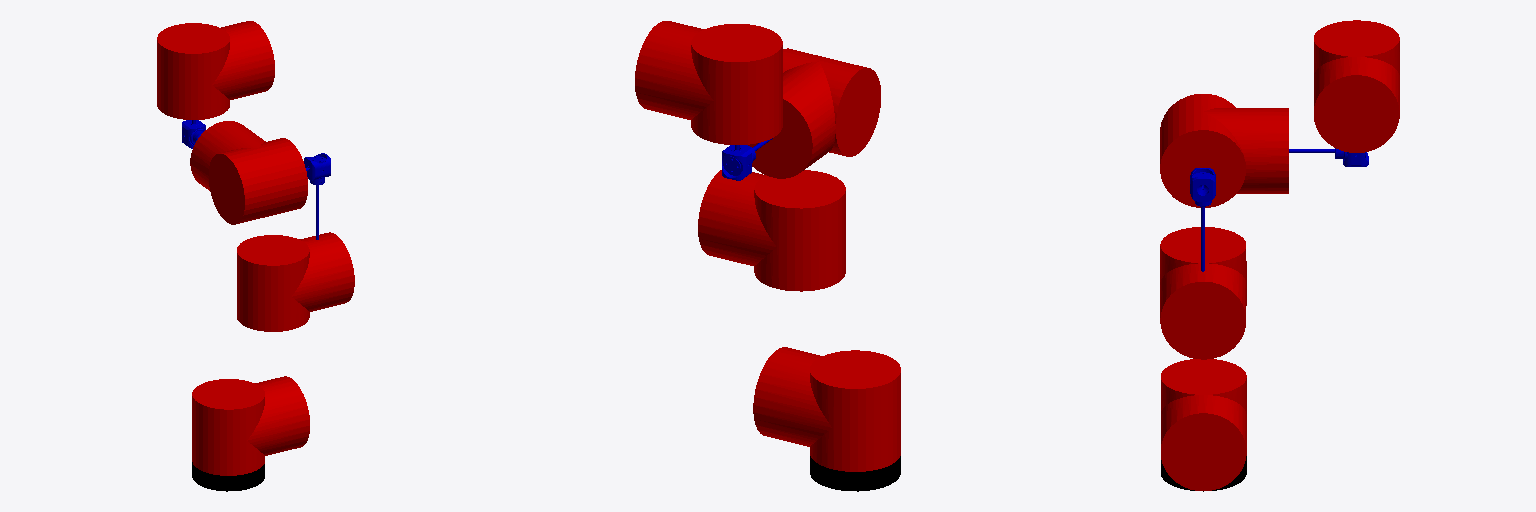
robot.urdf — node61:
<?xml version="1.0"?>
<robot  name="node61" >
 <material  name="blue" >
  <color  rgba="0 0 0.8 1.0" />
 </material>
 <material  name="red" >
  <color  rgba="0.8 0 0 1.0" />
 </material>
 <material  name="black" >
  <color  rgba="0.0 0.0 0.0 1.0" />
 </material>
 <link  name="root_mod" >
  <visual >
   <origin  rpy="0 0 0"  xyz="0 0 0" />
   <material  name="black" />
   <geometry >
    <cylinder  length="0.02"  radius="0.05" />
   </geometry>
  </visual>
 </link>
 <link  name="jointMod_1" >
  <visual >
   <origin  rpy="1.5707963267948963 0.0 0.0"  xyz="0.0 7.771561172376096e-19 0.0035" />
   <material  name="red" />
   <geometry >
    <mesh  filename="./meshes/j_module.obj"  scale="0.001 0.001 0.001" />
   </geometry>
  </visual>
 </link>
 <joint  type="revolute"  name="joint_1_revolute" >
  <parent  link="root_mod" />
  <child  link="jointMod_1" />
  <origin  rpy="0 0 0"  xyz="0.0 0.0 0.01" />
  <axis  xyz="0.0 0.0 1.0" />
 </joint>
 <transmission  name="act_joint_1_revolute" >
  <type  xmltext="SimpleTransmission" >
   SimpleTransmission
  </type>
  <actuator  name="act_joint_1_revolute" >
   <mechanicalreduction  xmltext="1" >
    1
   </mechanicalreduction>
  </actuator>
  <joint  name="joint_1_revolute" />
 </transmission>
 <link  name="linkMod_2" >
  <visual >
   <origin  rpy="1.5707963240855651 -1.2497703982816688e-08 -3.141592641092089"  xyz="0.03999999999999998 4.999081662324221e-10 -4.999081648780052e-10" />
   <material  name="blue" />
   <geometry >
    <mesh  filename="./meshes/l2_module.obj"  scale="0.001 0.001 0.001" />
   </geometry>
  </visual>
 </link>
 <joint  type="revolute"  name="joint_2_revolute" >
  <parent  link="jointMod_1" />
  <child  link="linkMod_2" />
  <origin  rpy="0 0 0"  xyz="0.03 -0.0002999999999999882 0.053000000000000005" />
  <axis  xyz="1.0 0.0 0.0" />
 </joint>
 <transmission  name="act_joint_2_revolute" >
  <type  xmltext="SimpleTransmission" >
   SimpleTransmission
  </type>
  <actuator  name="act_joint_2_revolute" >
   <mechanicalreduction  xmltext="1" >
    1
   </mechanicalreduction>
  </actuator>
  <joint  name="joint_2_revolute" />
 </transmission>
 <link  name="jointMod_3" >
  <visual >
   <origin  rpy="1.5707963267948963 0.0 0.0"  xyz="0.0 7.771561172376096e-19 0.0035" />
   <material  name="red" />
   <geometry >
    <mesh  filename="./meshes/j_module.obj"  scale="0.001 0.001 0.001" />
   </geometry>
  </visual>
 </link>
 <joint  type="fixed"  name="joint_3_fixed" >
  <parent  link="linkMod_2" />
  <child  link="jointMod_3" />
  <origin  rpy="0 0 0"  xyz="0.0400000018496602 9.892714319227296e-11 0.14799999950009177" />
  <axis  xyz="0.0 -0.0 1.0" />
 </joint>
 <link  name="linkMod_4" >
  <visual >
   <origin  rpy="1.5707963240855651 -1.2497703982816688e-08 -3.141592641092089"  xyz="0.03999999999999998 4.999081662324221e-10 -4.999081648780052e-10" />
   <material  name="blue" />
   <geometry >
    <mesh  filename="./meshes/l1_module.obj"  scale="0.001 0.001 0.001" />
   </geometry>
  </visual>
 </link>
 <joint  type="revolute"  name="joint_4_revolute" >
  <parent  link="jointMod_3" />
  <child  link="linkMod_4" />
  <origin  rpy="0 0 0"  xyz="0.03 -0.0002999999999999882 0.053000000000000005" />
  <axis  xyz="1.0 0.0 0.0" />
 </joint>
 <transmission  name="act_joint_4_revolute" >
  <type  xmltext="SimpleTransmission" >
   SimpleTransmission
  </type>
  <actuator  name="act_joint_4_revolute" >
   <mechanicalreduction  xmltext="1" >
    1
   </mechanicalreduction>
  </actuator>
  <joint  name="joint_4_revolute" />
 </transmission>
 <link  name="jointMod_5" >
  <visual >
   <origin  rpy="0.0 0.0 1.5707963267948963"  xyz="-0.0035 7.771561172376096e-19 0.0" />
   <material  name="red" />
   <geometry >
    <mesh  filename="./meshes/j_module.obj"  scale="0.001 0.001 0.001" />
   </geometry>
  </visual>
 </link>
 <joint  type="fixed"  name="joint_5_fixed" >
  <parent  link="linkMod_4" />
  <child  link="jointMod_5" />
  <origin  rpy="0 0 0"  xyz="1.9996326608429094e-09 -4.3349299788124236e-10 0.15999999999999995" />
  <axis  xyz="-1.0 -0.0 0.0" />
 </joint>
 <link  name="linkMod_6" >
  <visual >
   <origin  rpy="-3.141592641092089 -1.5707963009853283 0.0"  xyz="-1.8496602150599611e-09 0.14799999999999994 1.84966021004862e-09" />
   <material  name="blue" />
   <geometry >
    <mesh  filename="./meshes/l3_module.obj"  scale="0.001 0.001 0.001" />
   </geometry>
  </visual>
 </link>
 <joint  type="revolute"  name="joint_6_revolute" >
  <parent  link="jointMod_5" />
  <child  link="linkMod_6" />
  <origin  rpy="0 0 0"  xyz="-0.053 0.03000000000000001 0.0003" />
  <axis  xyz="0.0 1.0 0.0" />
 </joint>
 <transmission  name="act_joint_6_revolute" >
  <type  xmltext="SimpleTransmission" >
   SimpleTransmission
  </type>
  <actuator  name="act_joint_6_revolute" >
   <mechanicalreduction  xmltext="1" >
    1
   </mechanicalreduction>
  </actuator>
  <joint  name="joint_6_revolute" />
 </transmission>
 <link  name="jointMod_7" >
  <visual >
   <origin  rpy="1.5707963267948963 0.0 0.0"  xyz="0.0 7.771561172376096e-19 0.0035" />
   <material  name="red" />
   <geometry >
    <mesh  filename="./meshes/j_module.obj"  scale="0.001 0.001 0.001" />
   </geometry>
  </visual>
 </link>
 <joint  type="fixed"  name="joint_7_fixed" >
  <parent  link="linkMod_6" />
  <child  link="jointMod_7" />
  <origin  rpy="0 0 0"  xyz="-1.958033437884919e-09 0.14799999950009177 0.0400000018496602" />
  <axis  xyz="-0.0 -0.0 1.0" />
 </joint>
 <link  name="linkMod_8" >
  <visual >
   <origin  rpy="1.5707963240855651 -1.2497703982816688e-08 -3.141592641092089"  xyz="0.03999999999999998 4.999081662324221e-10 -4.999081648780052e-10" />
   <material  name="blue" />
   <geometry >
    <mesh  filename="./meshes/l2_module.obj"  scale="0.001 0.001 0.001" />
   </geometry>
  </visual>
 </link>
 <joint  type="revolute"  name="joint_8_revolute" >
  <parent  link="jointMod_7" />
  <child  link="linkMod_8" />
  <origin  rpy="0 0 0"  xyz="0.03 -0.0002999999999999882 0.053000000000000005" />
  <axis  xyz="1.0 0.0 0.0" />
 </joint>
 <transmission  name="act_joint_8_revolute" >
  <type  xmltext="SimpleTransmission" >
   SimpleTransmission
  </type>
  <actuator  name="act_joint_8_revolute" >
   <mechanicalreduction  xmltext="1" >
    1
   </mechanicalreduction>
  </actuator>
  <joint  name="joint_8_revolute" />
 </transmission>
 <link  name="eef" />
 <joint  type="fixed"  name="eef_joint" >
  <parent  link="linkMod_8" />
  <child  link="eef" />
  <origin  rpy="0 0 0"  xyz="0.0400000018496602 9.892714319227296e-11 0.14799999950009177" />
  <axis  xyz="0.0 -0.0 1.0" />
 </joint>
</robot>

--- Facts derived from the render (not from the file) ---
Views: 3 orthographic renders of the robot side by side, from view 1: azimuth 30°, elevation 25°; view 2: azimuth 150°, elevation 25°; view 3: azimuth 270°, elevation 25°.
Model node61 with 10 links and 9 joints (5 revolute, 4 fixed), rooted at root_mod, posed all joints at 0.
Links seen in each view (by area): view 1: jointMod_1, jointMod_7, jointMod_3, jointMod_5, root_mod, linkMod_4; view 2: jointMod_7, jointMod_1, jointMod_3, jointMod_5, root_mod, linkMod_6; view 3: jointMod_5, jointMod_7, jointMod_1, jointMod_3, linkMod_4, linkMod_6.
Boxes of the visible links, box(x1,y1,x2,y2) form: jointMod_1: box(192, 376, 309, 475); jointMod_7: box(157, 21, 274, 119); jointMod_3: box(237, 232, 354, 331); jointMod_5: box(190, 121, 307, 224); root_mod: box(192, 462, 264, 491); linkMod_4: box(304, 153, 330, 239); jointMod_7: box(635, 21, 782, 144); jointMod_1: box(753, 347, 900, 471); jointMod_3: box(698, 170, 845, 291); jointMod_5: box(748, 48, 880, 178); root_mod: box(810, 456, 900, 491); linkMod_6: box(722, 138, 772, 180); jointMod_5: box(1160, 94, 1288, 207); jointMod_7: box(1314, 20, 1399, 152); jointMod_1: box(1161, 359, 1246, 490); jointMod_3: box(1160, 227, 1246, 359); linkMod_4: box(1190, 168, 1215, 271); linkMod_6: box(1289, 148, 1368, 166).
Bounding box of the posed robot: 0.22 × 0.2778 × 0.5778 m (x, y, z).
6 mesh visuals loaded from 4 distinct referenced files (3 OBJ); not drawn: 2 (reference not matched to a file when rendering).